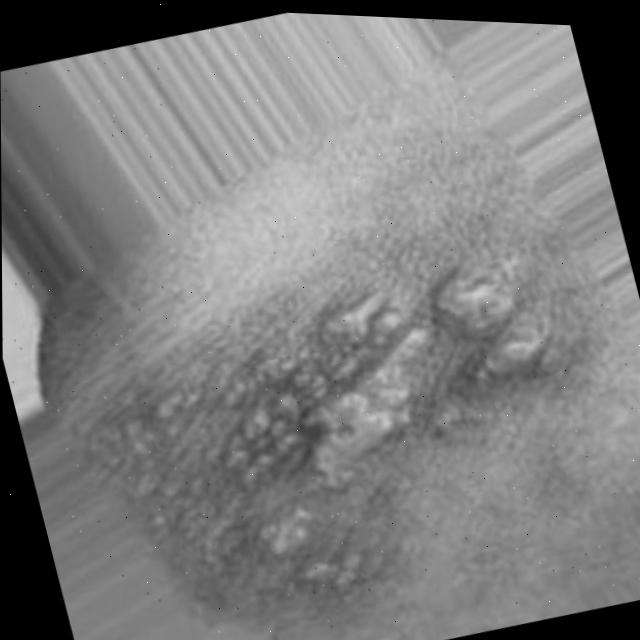Shingles: (101, 209, 594, 586)
